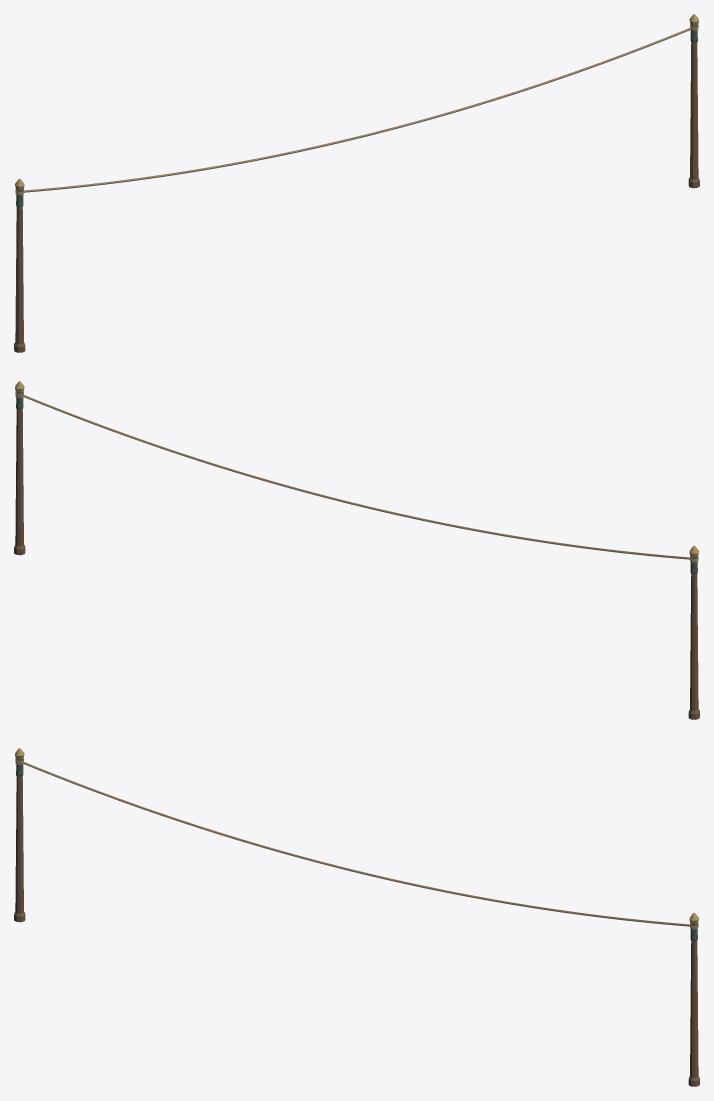
Rendered from bunting_line.glb.
3 renders of one model, top to bottom at view 1: azimuth 30°, elevation 25°; view 2: azimuth 150°, elevation 25°; view 3: azimuth 330°, elevation 25°, orthographic.
Parts seen in each view (by area): view 1: bunting_line; view 2: bunting_line; view 3: bunting_line.
Part boxes in pixels (x1,y1,x2,y2): bunting_line: (14, 14, 699, 352); bunting_line: (14, 381, 699, 719); bunting_line: (14, 748, 699, 1086).
Bounding box in the file's own units: 14.01 × 3.35 × 0.21.
